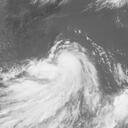cyclone: (21, 40, 97, 109)
